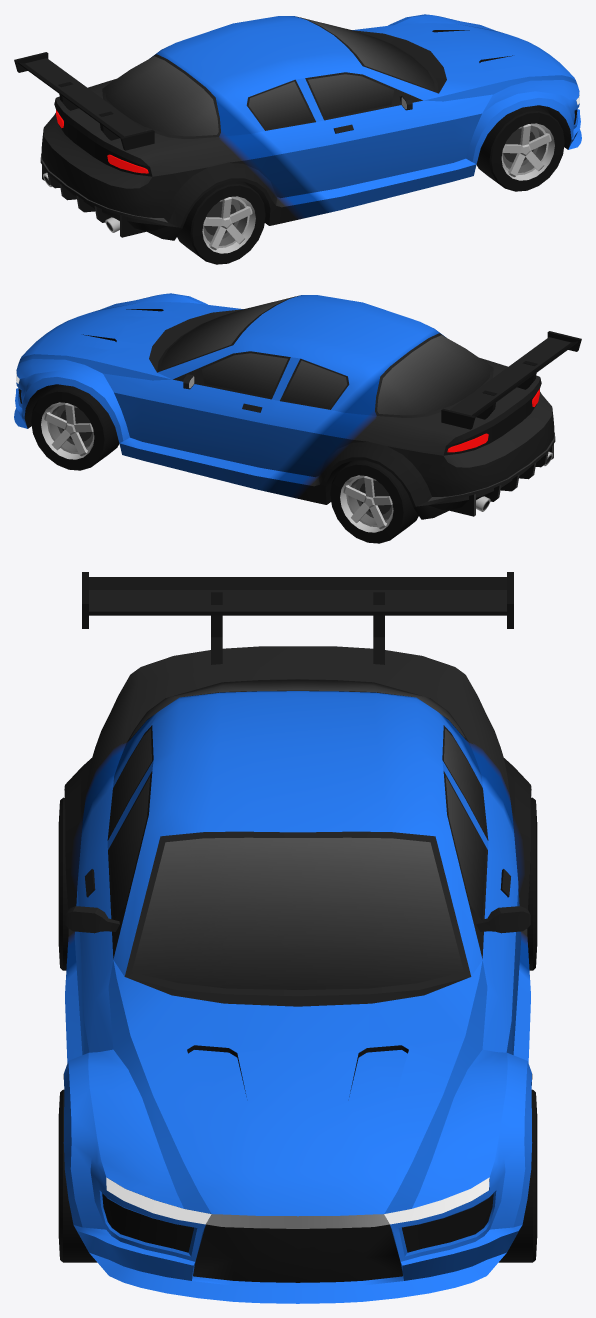
The model's file is Car_212.glb.
The picture shows the model from 3 angles, top to bottom: view 1: azimuth 30°, elevation 25°; view 2: azimuth 150°, elevation 25°; view 3: azimuth 270°, elevation 25°; orthographic projection. The views are drawn at different scales.
Parts seen in each view (by area): view 1: Car_212, wheel_1_Car_212_Wheel_1R, wheel_3_Car_212_Wheel_2R; view 2: Car_212, wheel_0_Car_212_Wheel_1L, wheel_2_Car_212_Wheel_2L; view 3: Car_212, wheel_0_Car_212_Wheel_1L, wheel_1_Car_212_Wheel_1R, wheel_2_Car_212_Wheel_2L, wheel_3_Car_212_Wheel_2R.
Boxes of the visible parts, x1,y1,x2,y2 form: Car_212: (14,14,581,240); wheel_1_Car_212_Wheel_1R: (476,105,564,191); wheel_3_Car_212_Wheel_2R: (177,181,265,264); Car_212: (14,293,581,519); wheel_0_Car_212_Wheel_1L: (31,384,119,470); wheel_2_Car_212_Wheel_2L: (330,460,418,543); Car_212: (63,572,532,1303); wheel_0_Car_212_Wheel_1L: (499,1089,537,1262); wheel_1_Car_212_Wheel_1R: (58,1089,96,1262); wheel_2_Car_212_Wheel_2L: (527,797,537,970); wheel_3_Car_212_Wheel_2R: (58,797,68,970).
Size of the model in its own units: 4.6 by 1.37 by 1.93.
3 materials, 3 textured.
